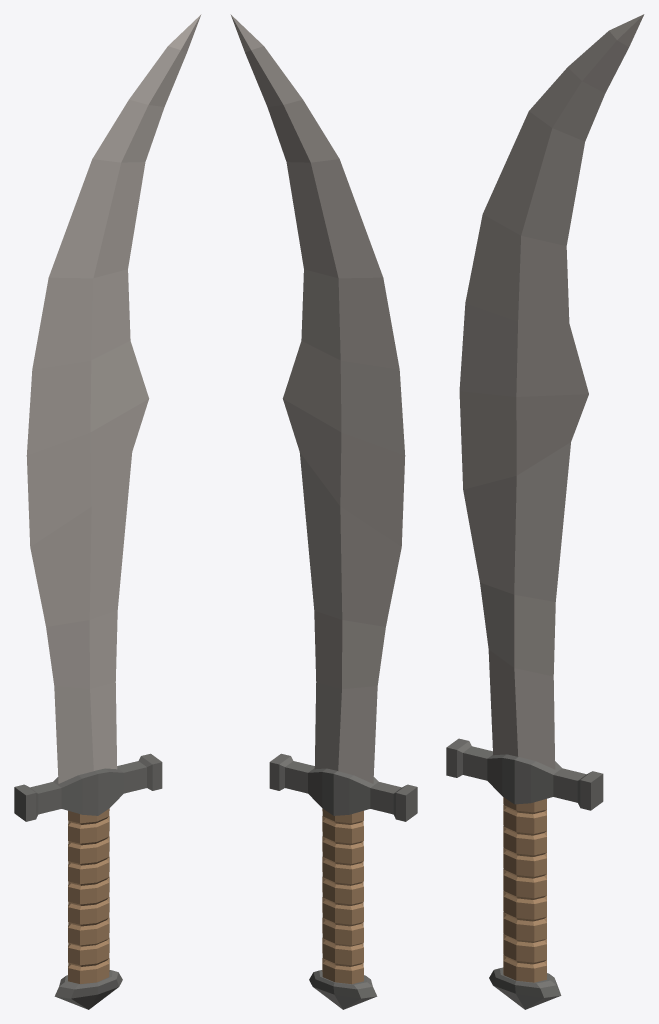
Rendered from SM_pwe_persia_sword_01.fbx.
3 views of the same model, side by side, from view 1: azimuth 30°, elevation 25°; view 2: azimuth 150°, elevation 25°; view 3: azimuth 330°, elevation 25° (orthographic). The views are drawn at different scales.
Parts seen in each view (by area): view 1: SM_pwe_persia_sword_01; view 2: SM_pwe_persia_sword_01; view 3: SM_pwe_persia_sword_01.
Part boxes in pixels (left/top/right/bottom): SM_pwe_persia_sword_01: left=14, top=14, right=201, bottom=1009; SM_pwe_persia_sword_01: left=230, top=14, right=417, bottom=1009; SM_pwe_persia_sword_01: left=446, top=14, right=644, bottom=1009.
Size of the model in its own units: 16.21 by 82.74 by 3.01.
